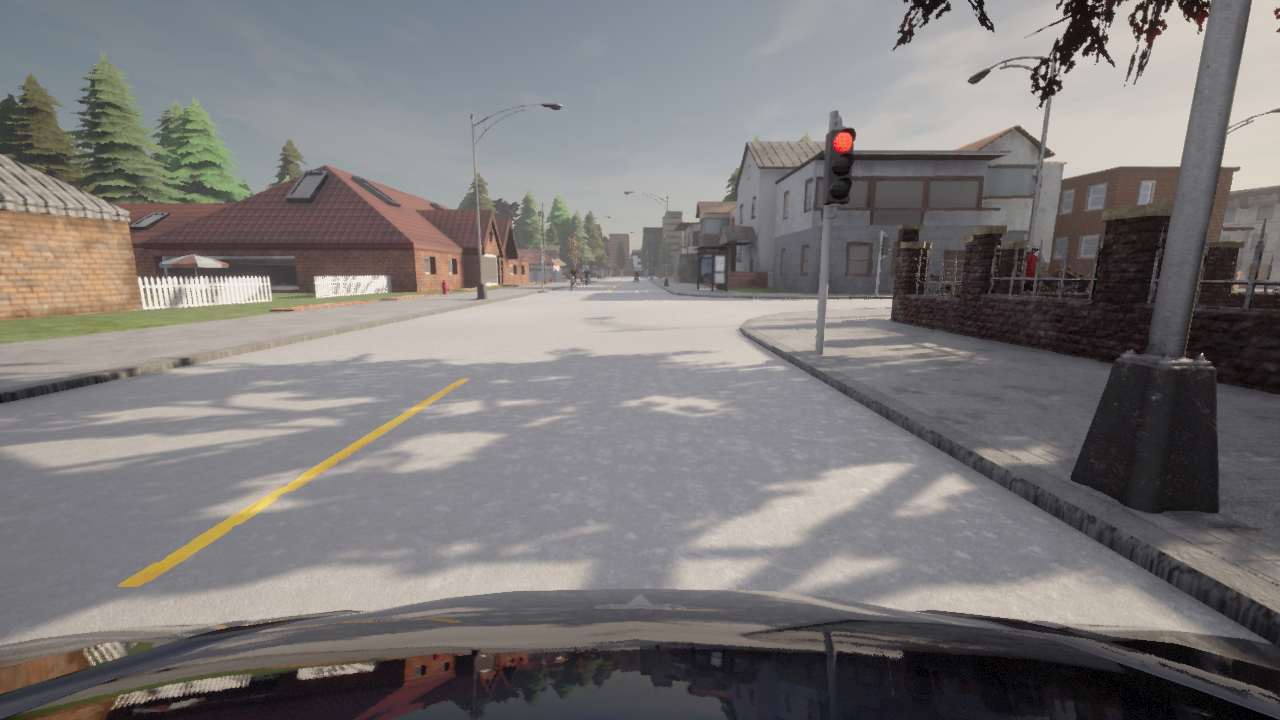cyclist: (0, 588, 1279, 719), (1042, 273, 1091, 291), (935, 287, 950, 292), (572, 275, 575, 289), (1271, 287, 1279, 291), (634, 276, 638, 282), (585, 278, 586, 285)
pedestrian: (1022, 246, 1044, 291)
